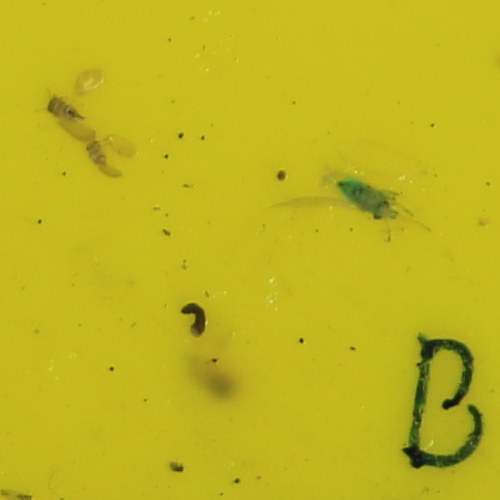psylla: (336, 179, 399, 225), (44, 94, 87, 120)
wasp: (82, 135, 108, 168)
